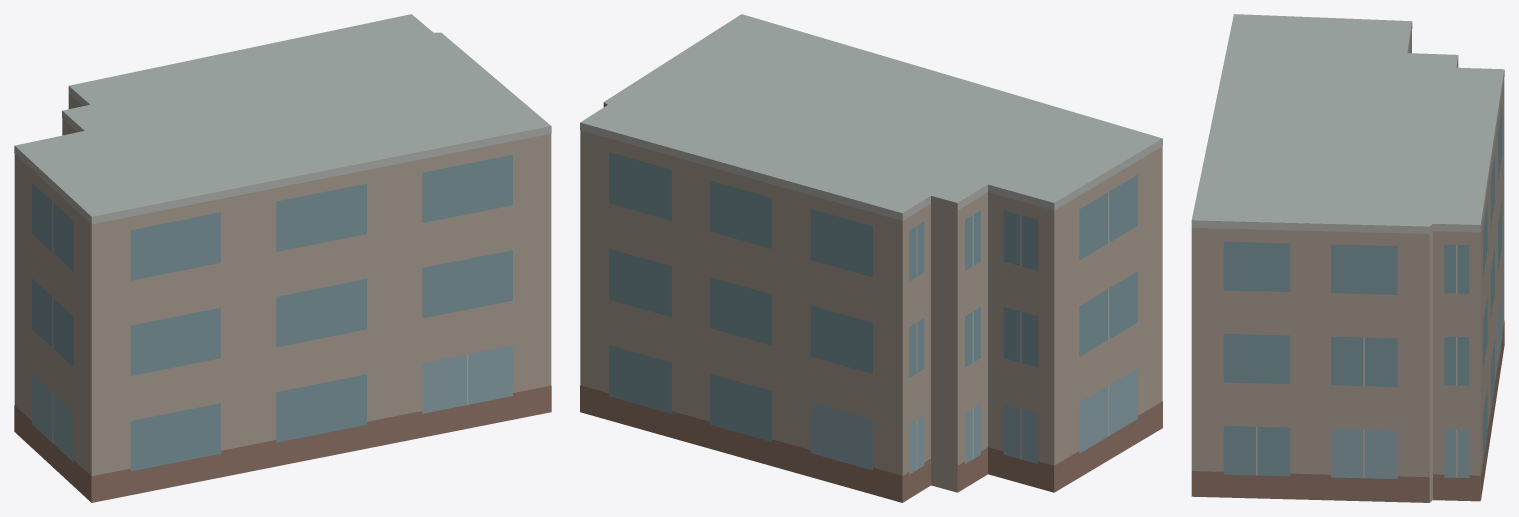
The model's file is survey-upis-32653811.glb.
The picture shows the model from 3 angles, left to right: view 1: azimuth 30°, elevation 25°; view 2: azimuth 150°, elevation 25°; view 3: azimuth 270°, elevation 25°; orthographic projection. The views are drawn at different scales.
Parts seen in each view (by area): view 1: survey-upis-32653811.tmp; view 2: survey-upis-32653811.tmp; view 3: survey-upis-32653811.tmp.
Boxes of the visible parts, x1,y1,x2,y2 form: survey-upis-32653811.tmp: (14,14,551,502); survey-upis-32653811.tmp: (580,14,1162,502); survey-upis-32653811.tmp: (1191,14,1504,502).
Size of the model in its own units: 15.11 by 9.15 by 9.4.
